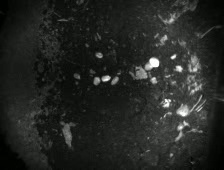corn: (142, 60, 156, 75), (107, 74, 122, 88), (148, 55, 161, 70), (90, 73, 103, 87), (99, 72, 113, 83), (93, 48, 105, 60), (71, 70, 82, 80)
